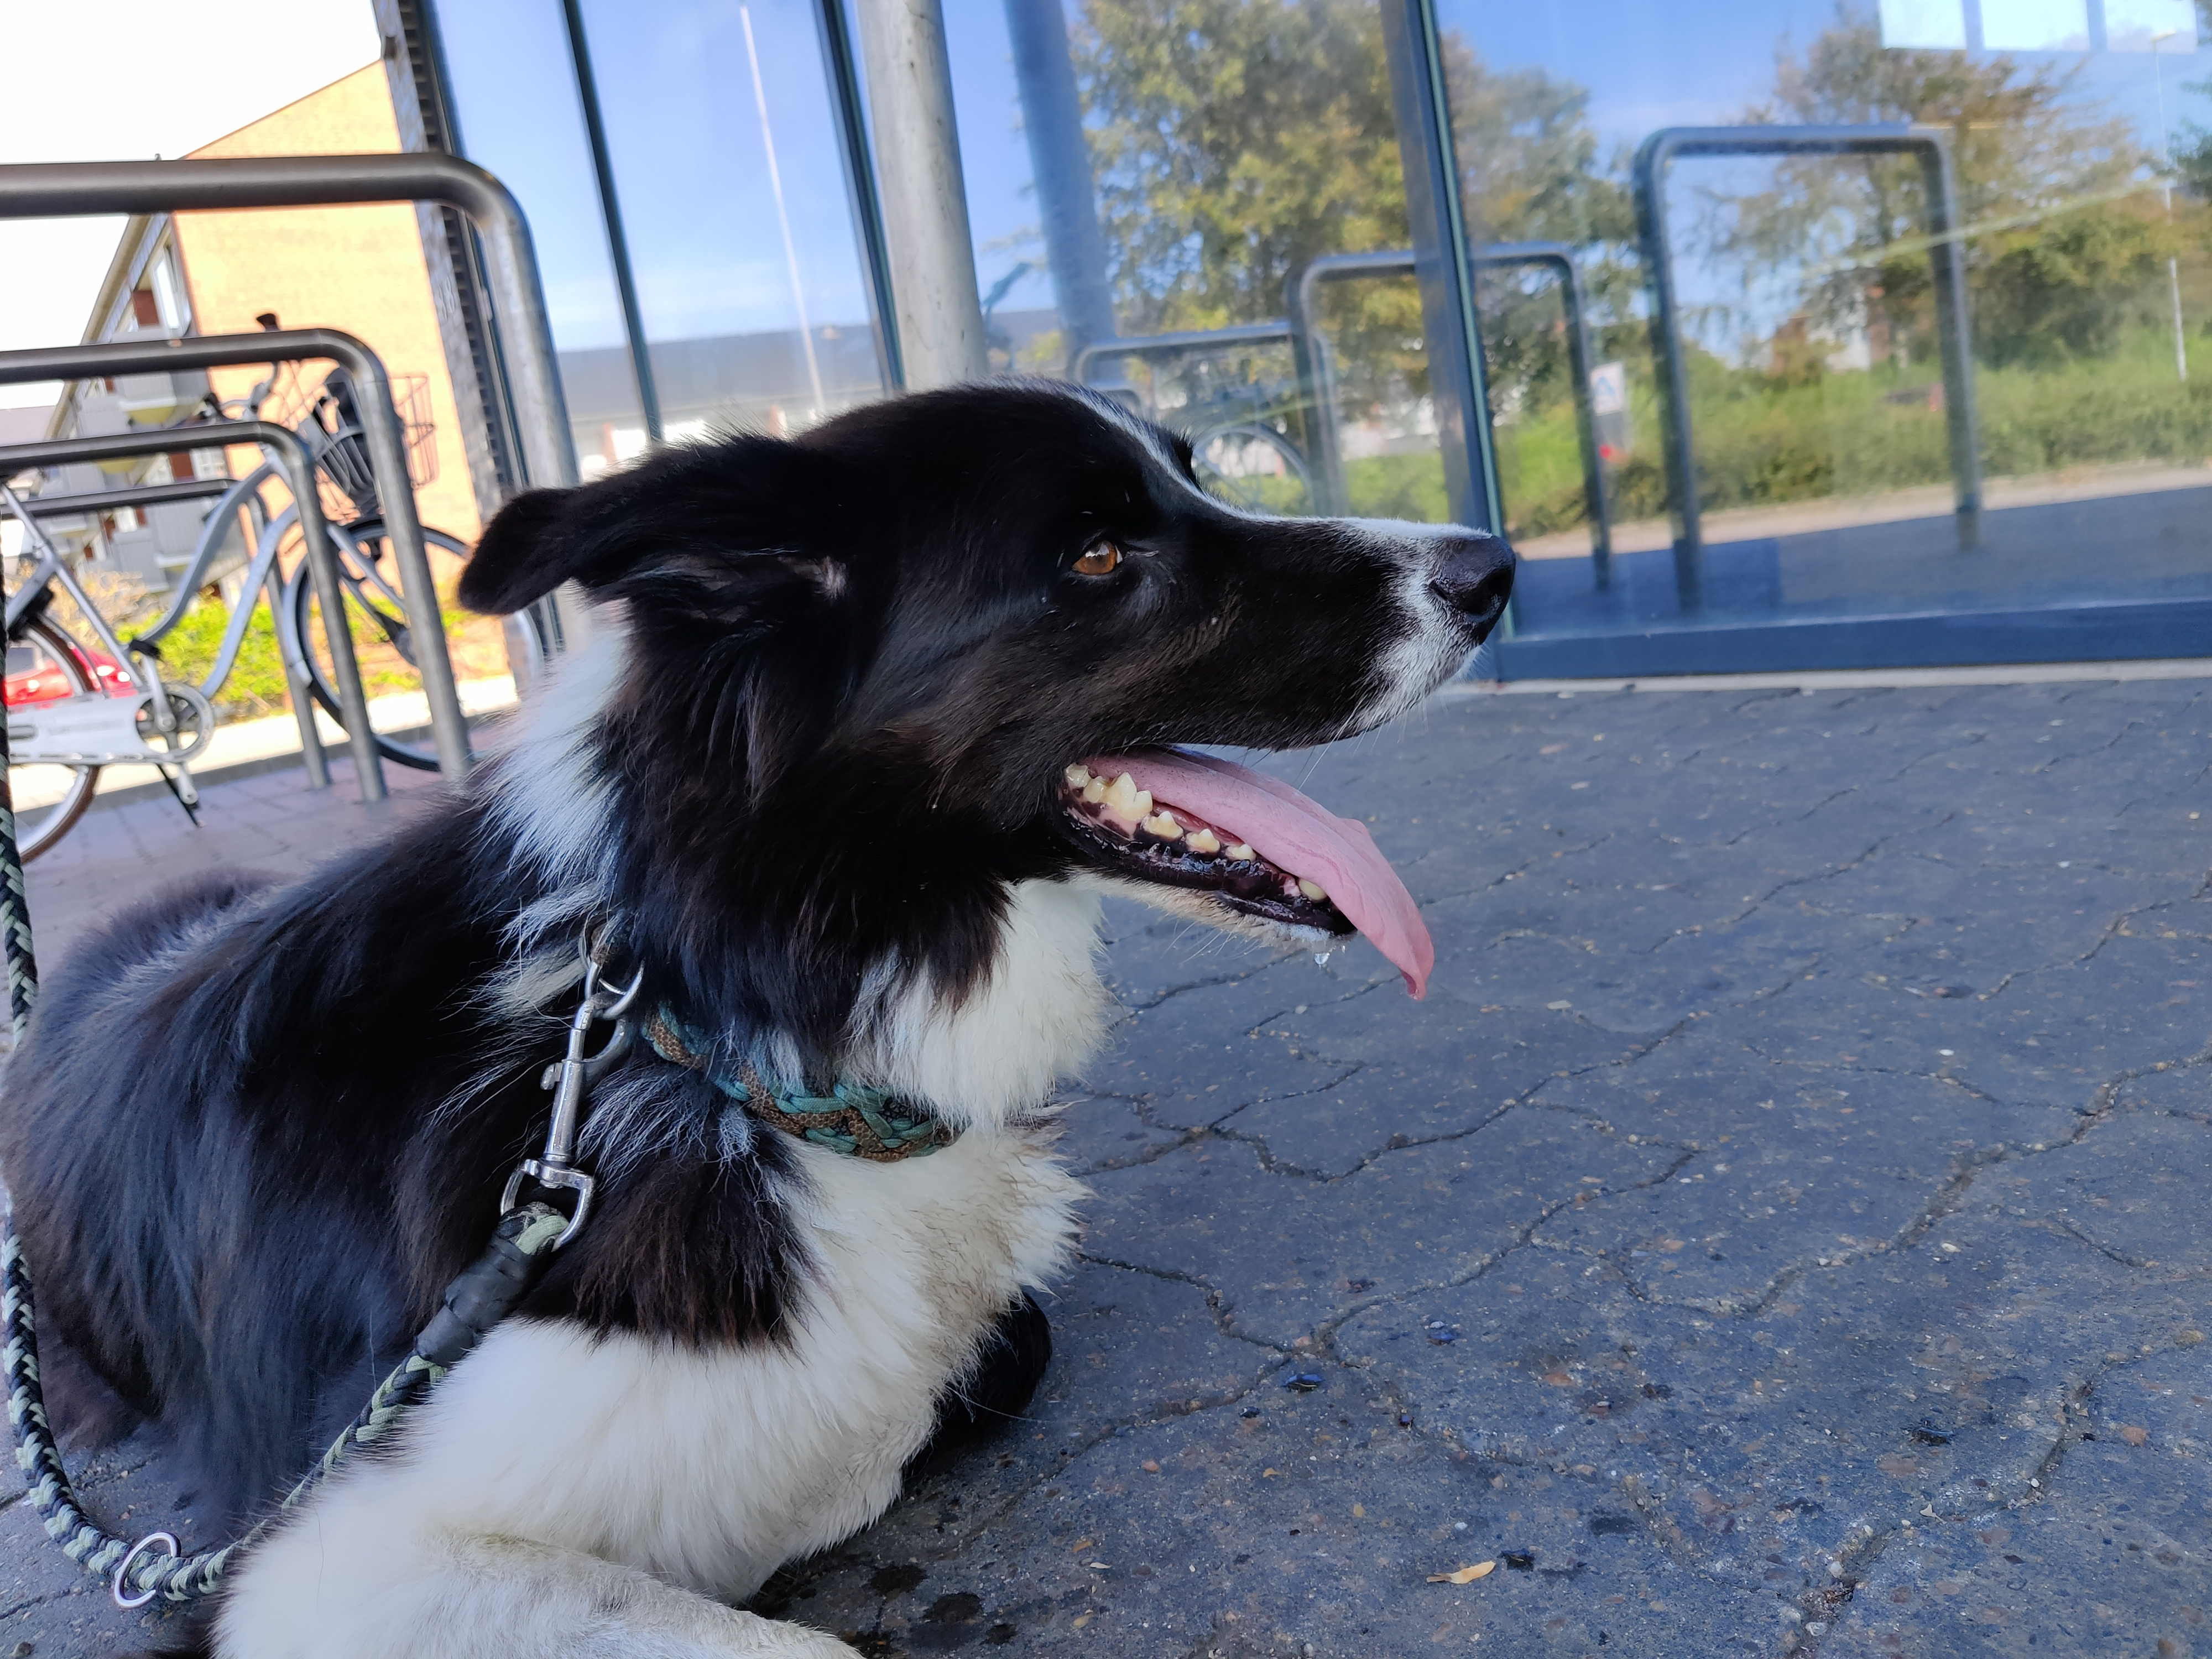Dog: (0, 359, 1524, 1659)
